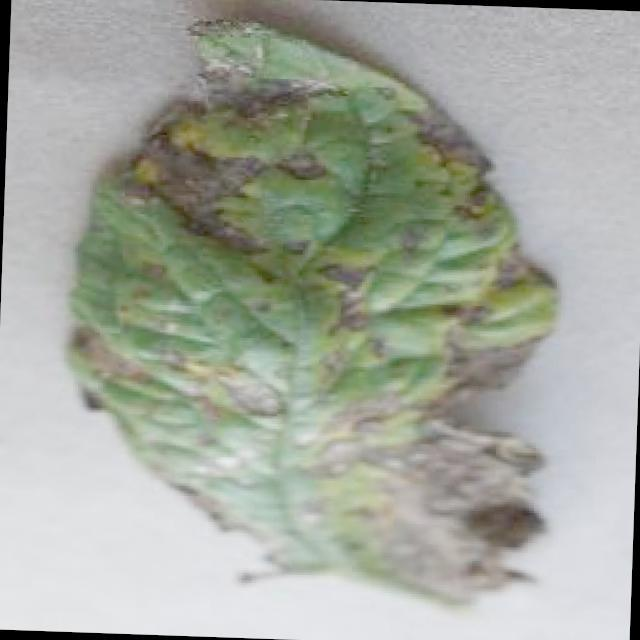Tomato Early blight leaf: (59, 8, 566, 610)
